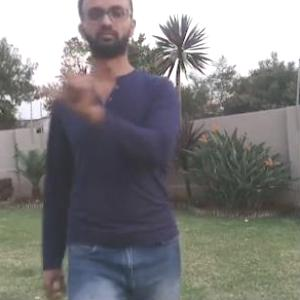land_hand: (40, 44, 106, 118)
